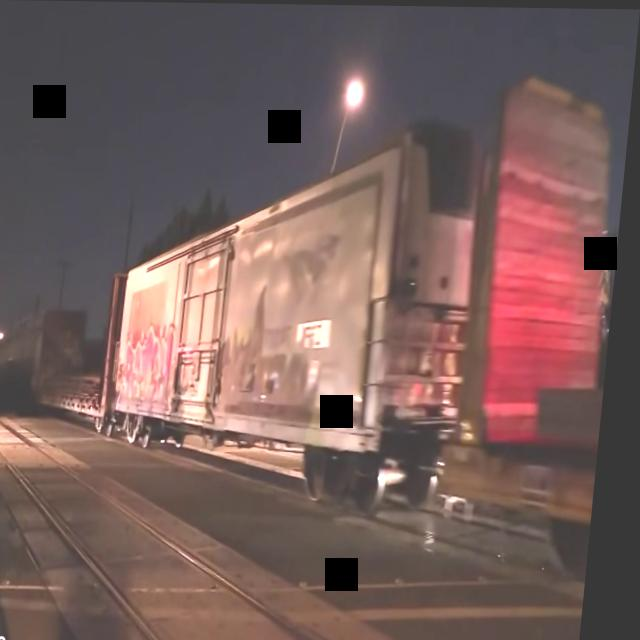boxcar: (111, 111, 486, 512)
flatcar_bulkhead: (443, 50, 637, 592), (37, 268, 131, 441)
